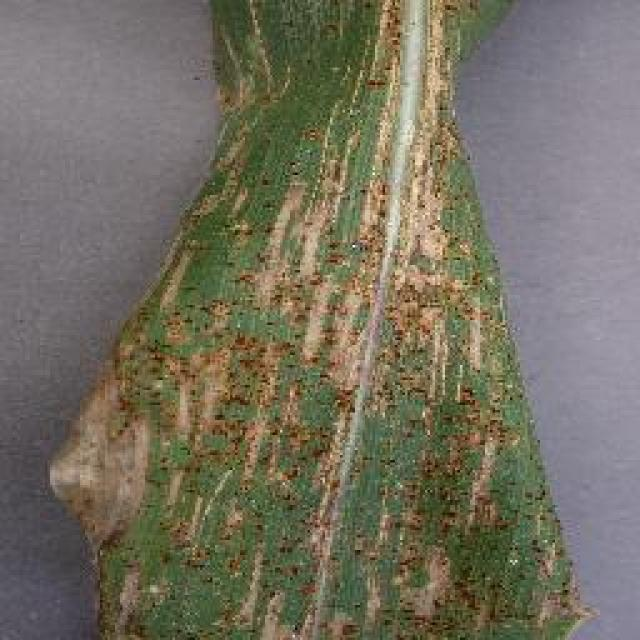Corn___Cercospora_leaf_spot Gray_leaf_spot: (30, 2, 612, 640)
